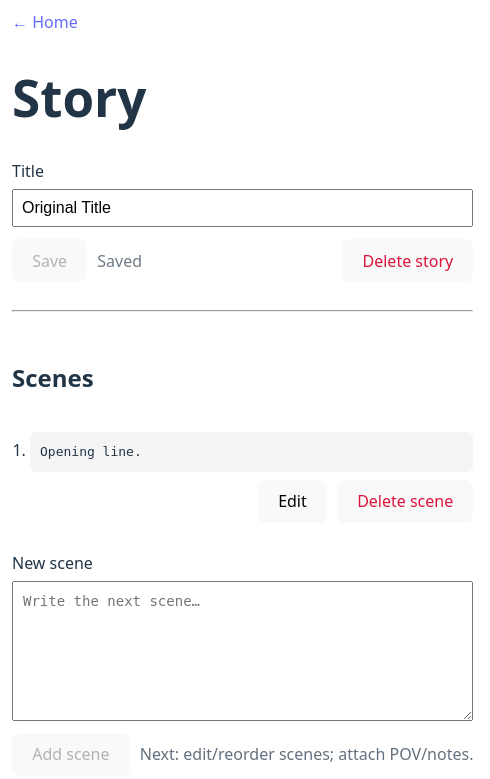
deletes a scene after confirmation
Expected: the text "Opening line." is shown, [30, 432, 473, 472]
Click the button "Delete scene": x=405, y=501 [337, 480, 474, 523]
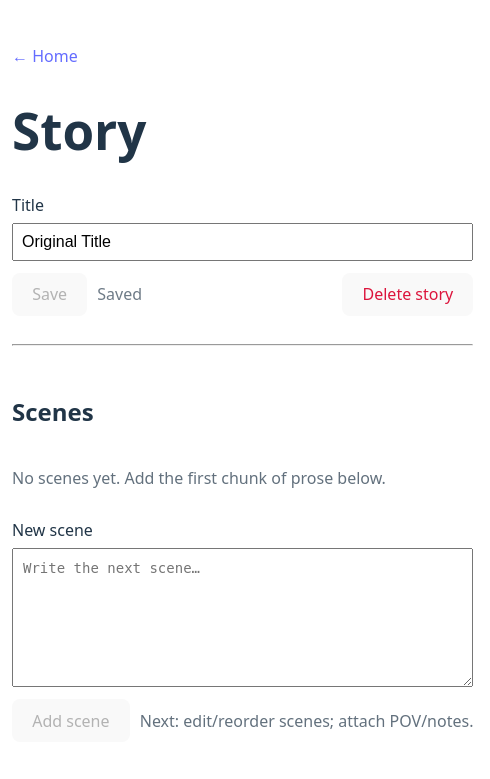
Expected: the text "Opening line." is gone
